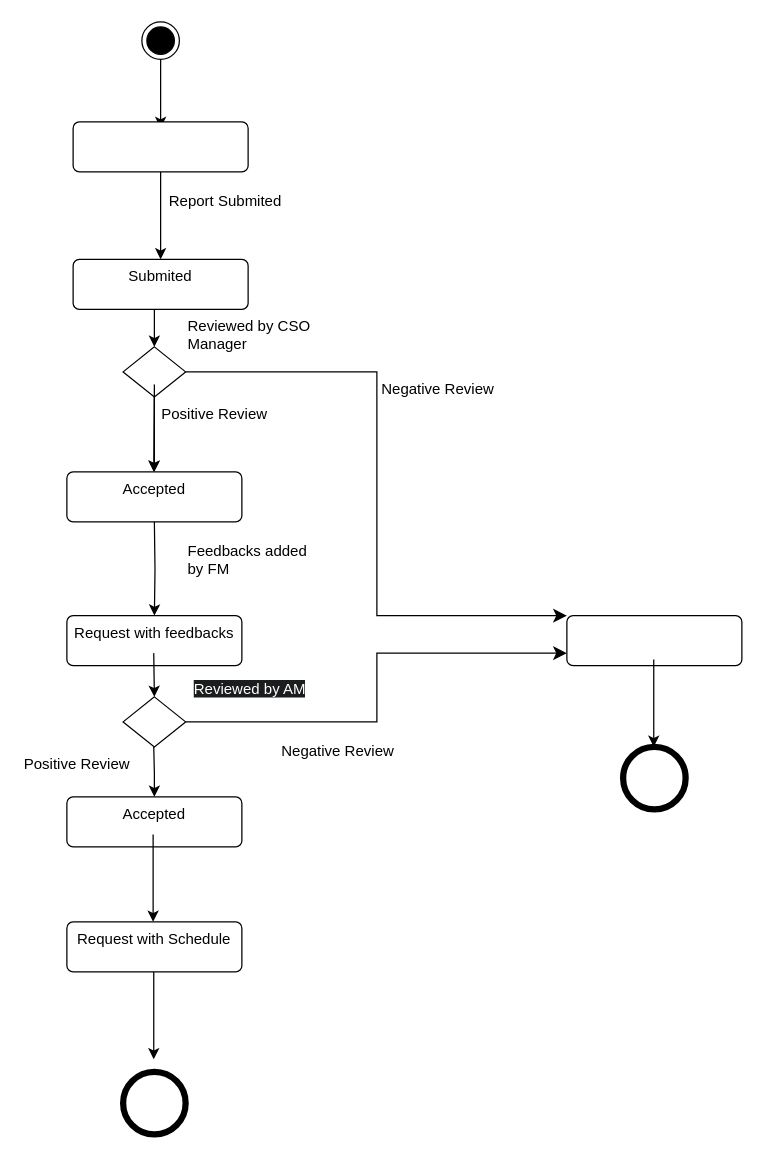
Image size: 764x1159. Some labels were removed from this diagram. Each missing label, with the box of its shape:
Archived: (566, 614, 742, 666)
Created: (72, 121, 248, 172)
